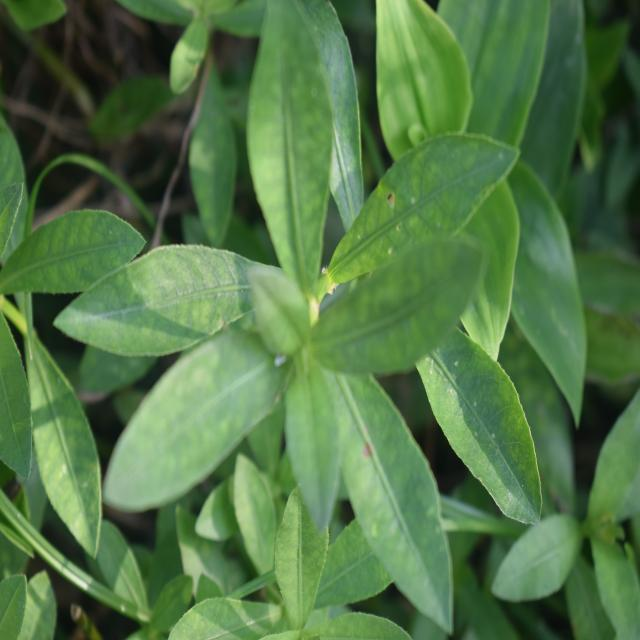Alligatorweed: (102, 20, 482, 620)
